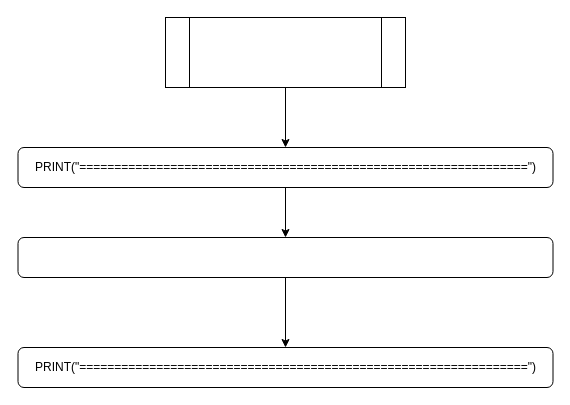
Some shapes in this 570 by 405 pixel diagram are drawn without their labels. Each missing label, with the centre of its shape:
FUNCTION print_title(title): (x=285, y=52)
PRINT(" " * int((64-LEN(title))/2) + title): (x=285, y=257)
